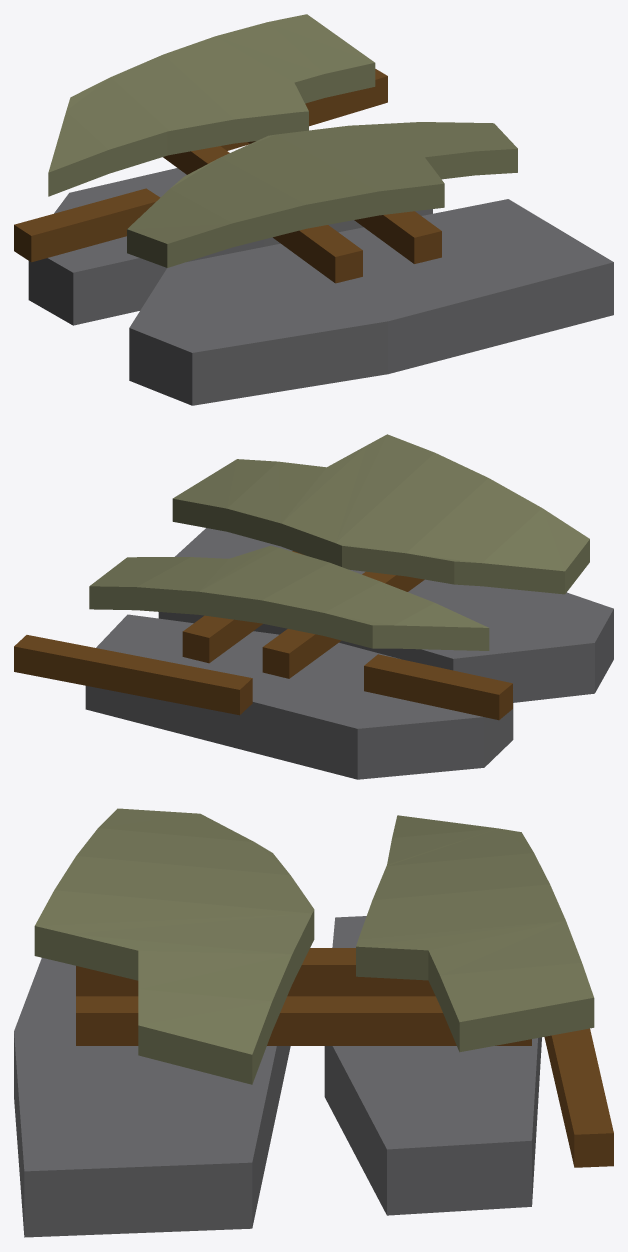
Rendered from ship_chunk_2.obj.
The picture shows the model from 3 angles, top to bottom: view 1: azimuth 30°, elevation 25°; view 2: azimuth 150°, elevation 25°; view 3: azimuth 270°, elevation 25°; orthographic projection. The views are drawn at different scales.
Parts seen in each view (by area): view 1: ship_chunk_2_1, ship_chunk_2_7, ship_chunk_2_6, ship_chunk_2_0, ship_chunk_2_3, ship_chunk_2_4, ship_chunk_2_5, ship_chunk_2_2; view 2: ship_chunk_2_7, ship_chunk_2_0, ship_chunk_2_6, ship_chunk_2_1, ship_chunk_2_2, ship_chunk_2_3, ship_chunk_2_4, ship_chunk_2_5; view 3: ship_chunk_2_7, ship_chunk_2_1, ship_chunk_2_6, ship_chunk_2_0, ship_chunk_2_5, ship_chunk_2_2, ship_chunk_2_4.
Part boxes in pixels (left/top/right/bottom): ship_chunk_2_1: left=129, top=199, right=613, bottom=405; ship_chunk_2_7: left=127, top=122, right=517, bottom=267; ship_chunk_2_6: left=48, top=14, right=375, bottom=196; ship_chunk_2_0: left=28, top=168, right=432, bottom=325; ship_chunk_2_3: left=14, top=188, right=160, bottom=262; ship_chunk_2_4: left=163, top=146, right=362, bottom=283; ship_chunk_2_5: left=248, top=141, right=441, bottom=263; ship_chunk_2_2: left=221, top=69, right=387, bottom=150; ship_chunk_2_7: left=172, top=434, right=589, bottom=594; ship_chunk_2_0: left=85, top=614, right=513, bottom=779; ship_chunk_2_6: left=89, top=545, right=489, bottom=650; ship_chunk_2_1: left=158, top=528, right=613, bottom=702; ship_chunk_2_2: left=14, top=635, right=252, bottom=715; ship_chunk_2_3: left=364, top=654, right=512, bottom=720; ship_chunk_2_4: left=262, top=571, right=424, bottom=678; ship_chunk_2_5: left=182, top=551, right=304, bottom=663; ship_chunk_2_7: left=34, top=808, right=314, bottom=1084; ship_chunk_2_1: left=14, top=958, right=290, bottom=1237; ship_chunk_2_6: left=356, top=815, right=594, bottom=1052; ship_chunk_2_0: left=324, top=916, right=541, bottom=1215; ship_chunk_2_5: left=76, top=996, right=531, bottom=1045; ship_chunk_2_2: left=544, top=1028, right=613, bottom=1167; ship_chunk_2_4: left=76, top=948, right=435, bottom=996.
Size of the model in its own units: 1.91 by 0.7041 by 1.81.
